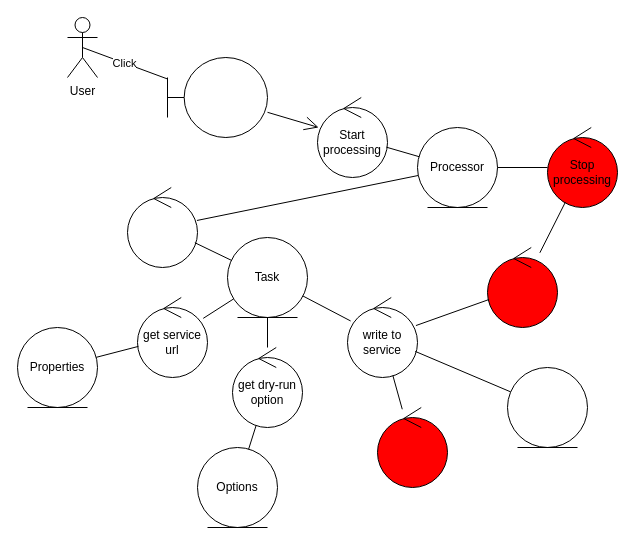
Image size: 635x545. Some labels were removed from this diagram. The shapes that lost their labels are listed below. From the top down, each one's box as (x1, y1, x2, y2) in pixels, then its label:
(166, 56, 268, 138): Execute action
(126, 186, 198, 268): execute
(486, 246, 558, 328): Service unavailable
(506, 366, 588, 448): Service
(376, 406, 448, 488): Dry-run option enabled
